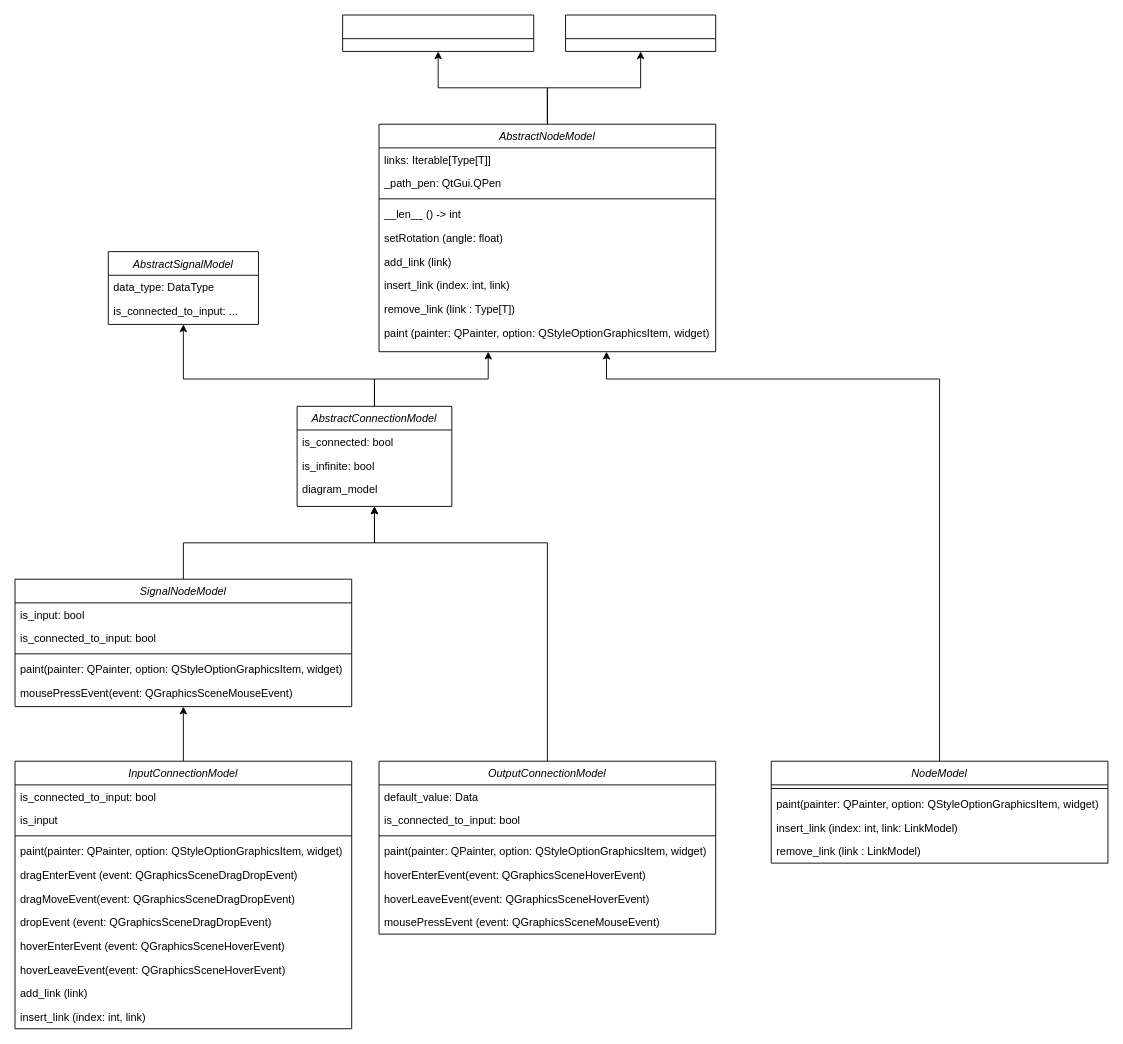
This 1123x1044 diagram has some shape labels left out. Each missing label, with the centre of its shape:
"AbstractMoveableGraphicalElement" belongs at (438,32).
"Generic [T]" belongs at (640,32).
